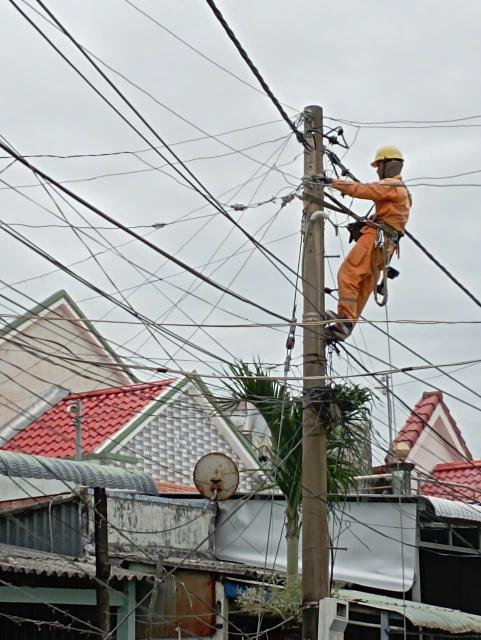harness: (357, 205, 407, 243)
helmet: (371, 141, 408, 167)
shoes: (318, 308, 356, 335)
